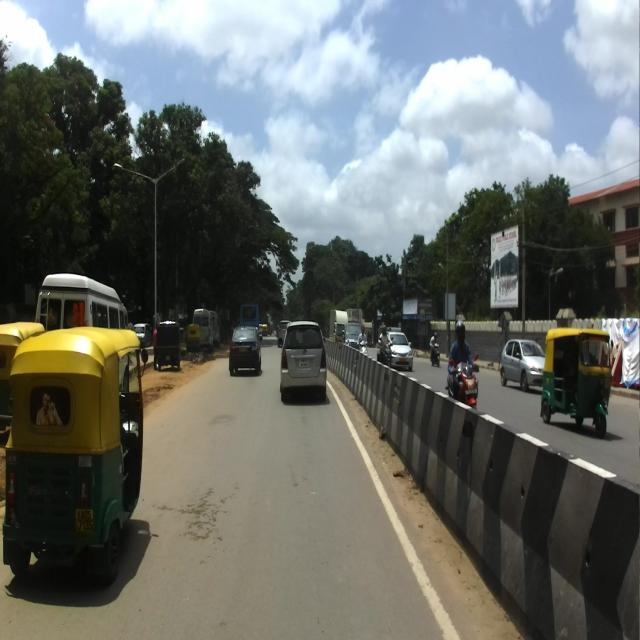Car_Toyota: (279, 320, 327, 400)
autorickshaw: (2, 326, 148, 587), (540, 327, 614, 440)
motorcycle_Hero: (444, 352, 479, 410)
